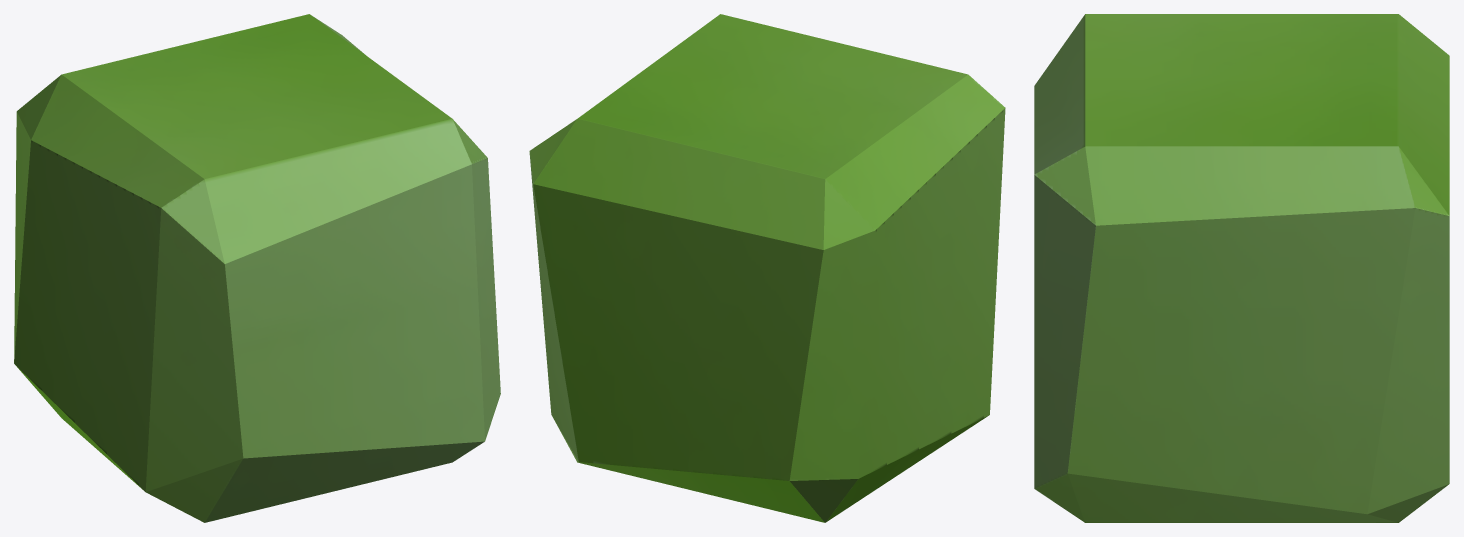
Rendered from GreenSquare.fbx.
The picture shows the model from 3 angles, left to right: view 1: azimuth 30°, elevation 25°; view 2: azimuth 150°, elevation 25°; view 3: azimuth 270°, elevation 25°; orthographic projection. The views are drawn at different scales.
Visible parts, largest first — view 1: Cube.005; view 2: Cube.005; view 3: Cube.005.
Boxes of the visible parts, x1,y1,x2,y2 form: Cube.005: (14,14,500,522); Cube.005: (529,14,1005,522); Cube.005: (1034,14,1449,522).
Bounding box in the file's own units: 49.1 × 49.1 × 49.1.
